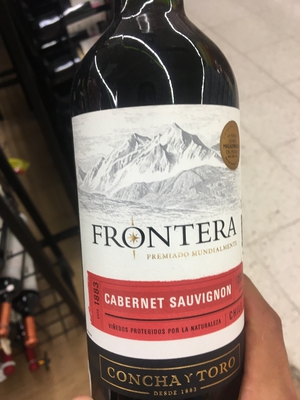frontera cabernet sauvignon: (67, 3, 251, 400)
